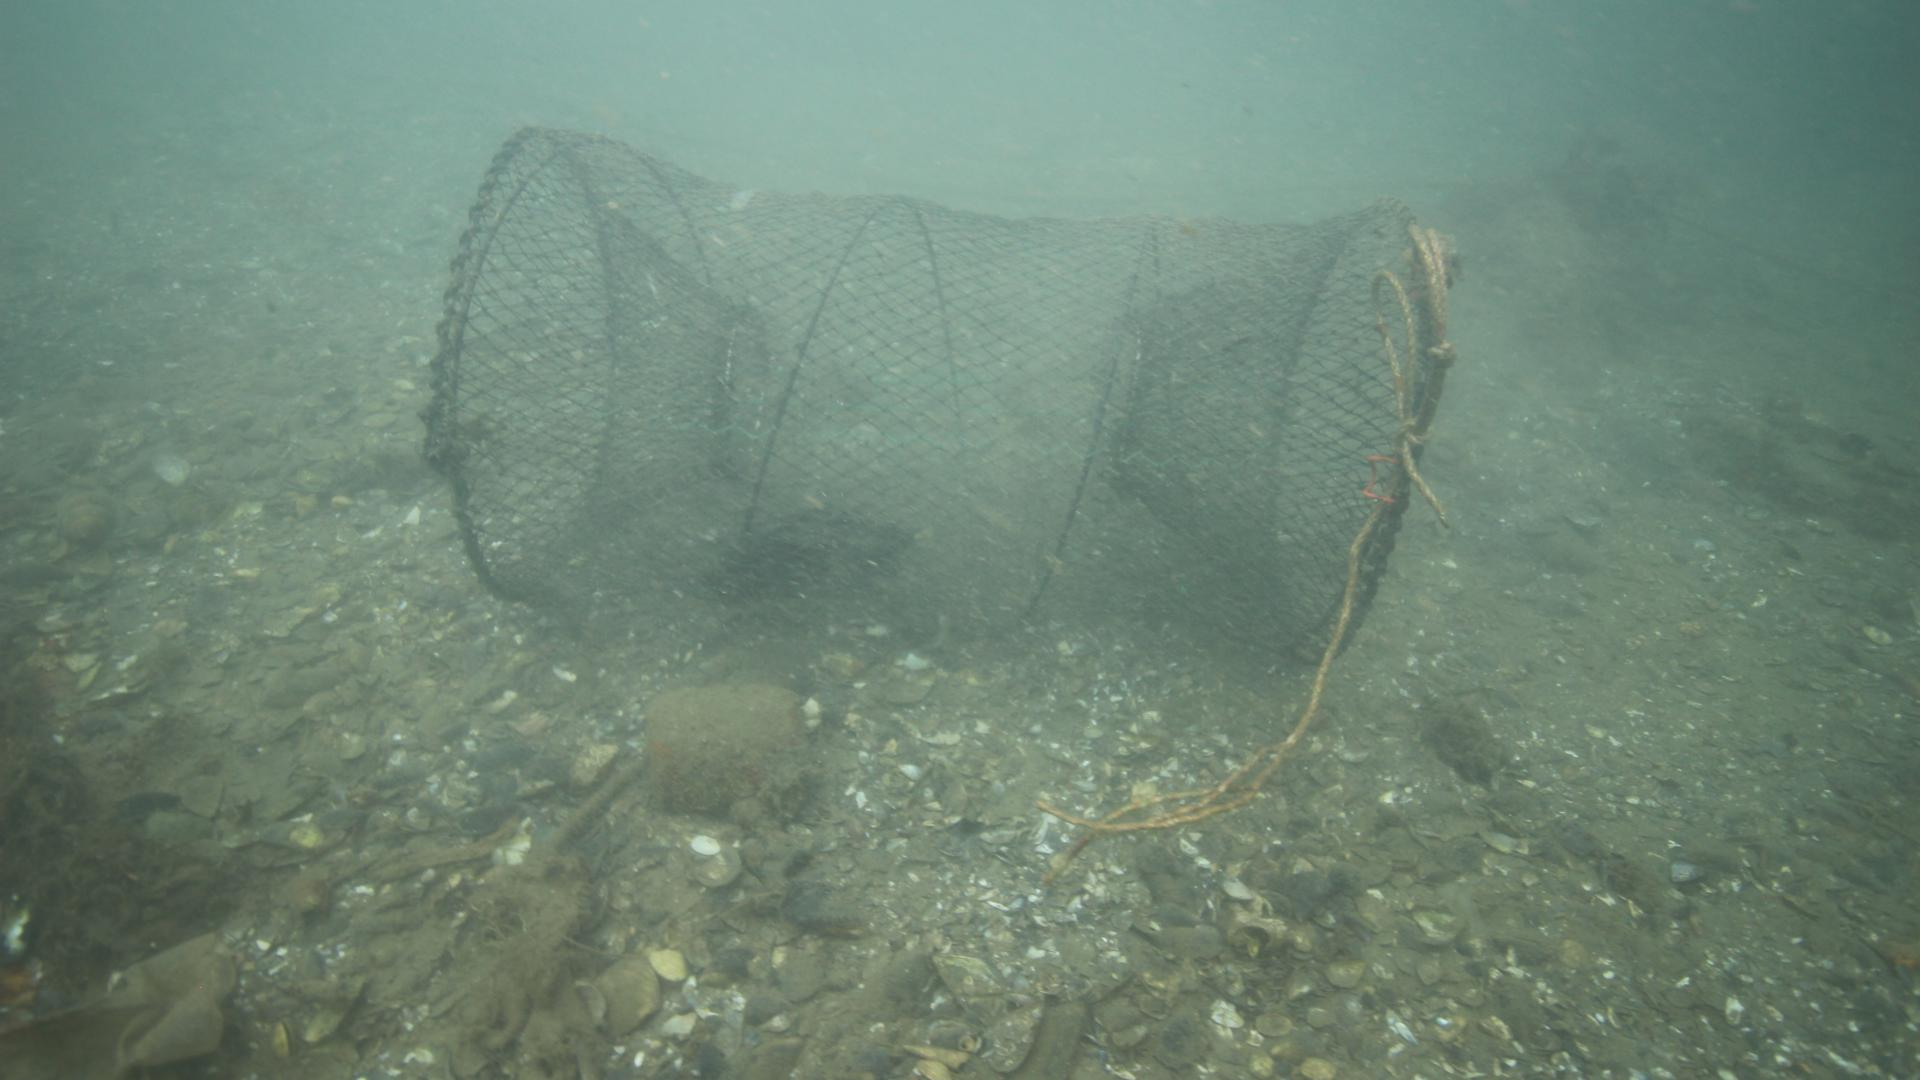spring fish trap: (429, 117, 1448, 653)
